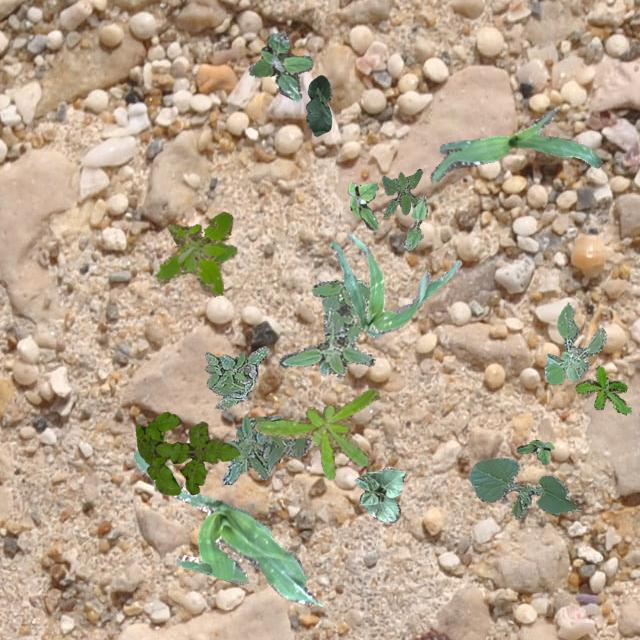crop: (133, 451, 315, 604), (330, 232, 460, 338), (429, 106, 602, 182), (468, 458, 580, 518), (354, 466, 404, 522), (304, 74, 330, 136), (402, 194, 427, 248)
weed: (254, 388, 378, 478), (278, 278, 374, 378), (134, 410, 238, 494), (154, 210, 236, 296), (222, 414, 310, 484), (544, 302, 606, 384), (248, 31, 312, 100), (205, 346, 268, 408), (574, 364, 630, 412), (381, 168, 422, 216), (347, 180, 378, 230), (516, 438, 554, 464)
